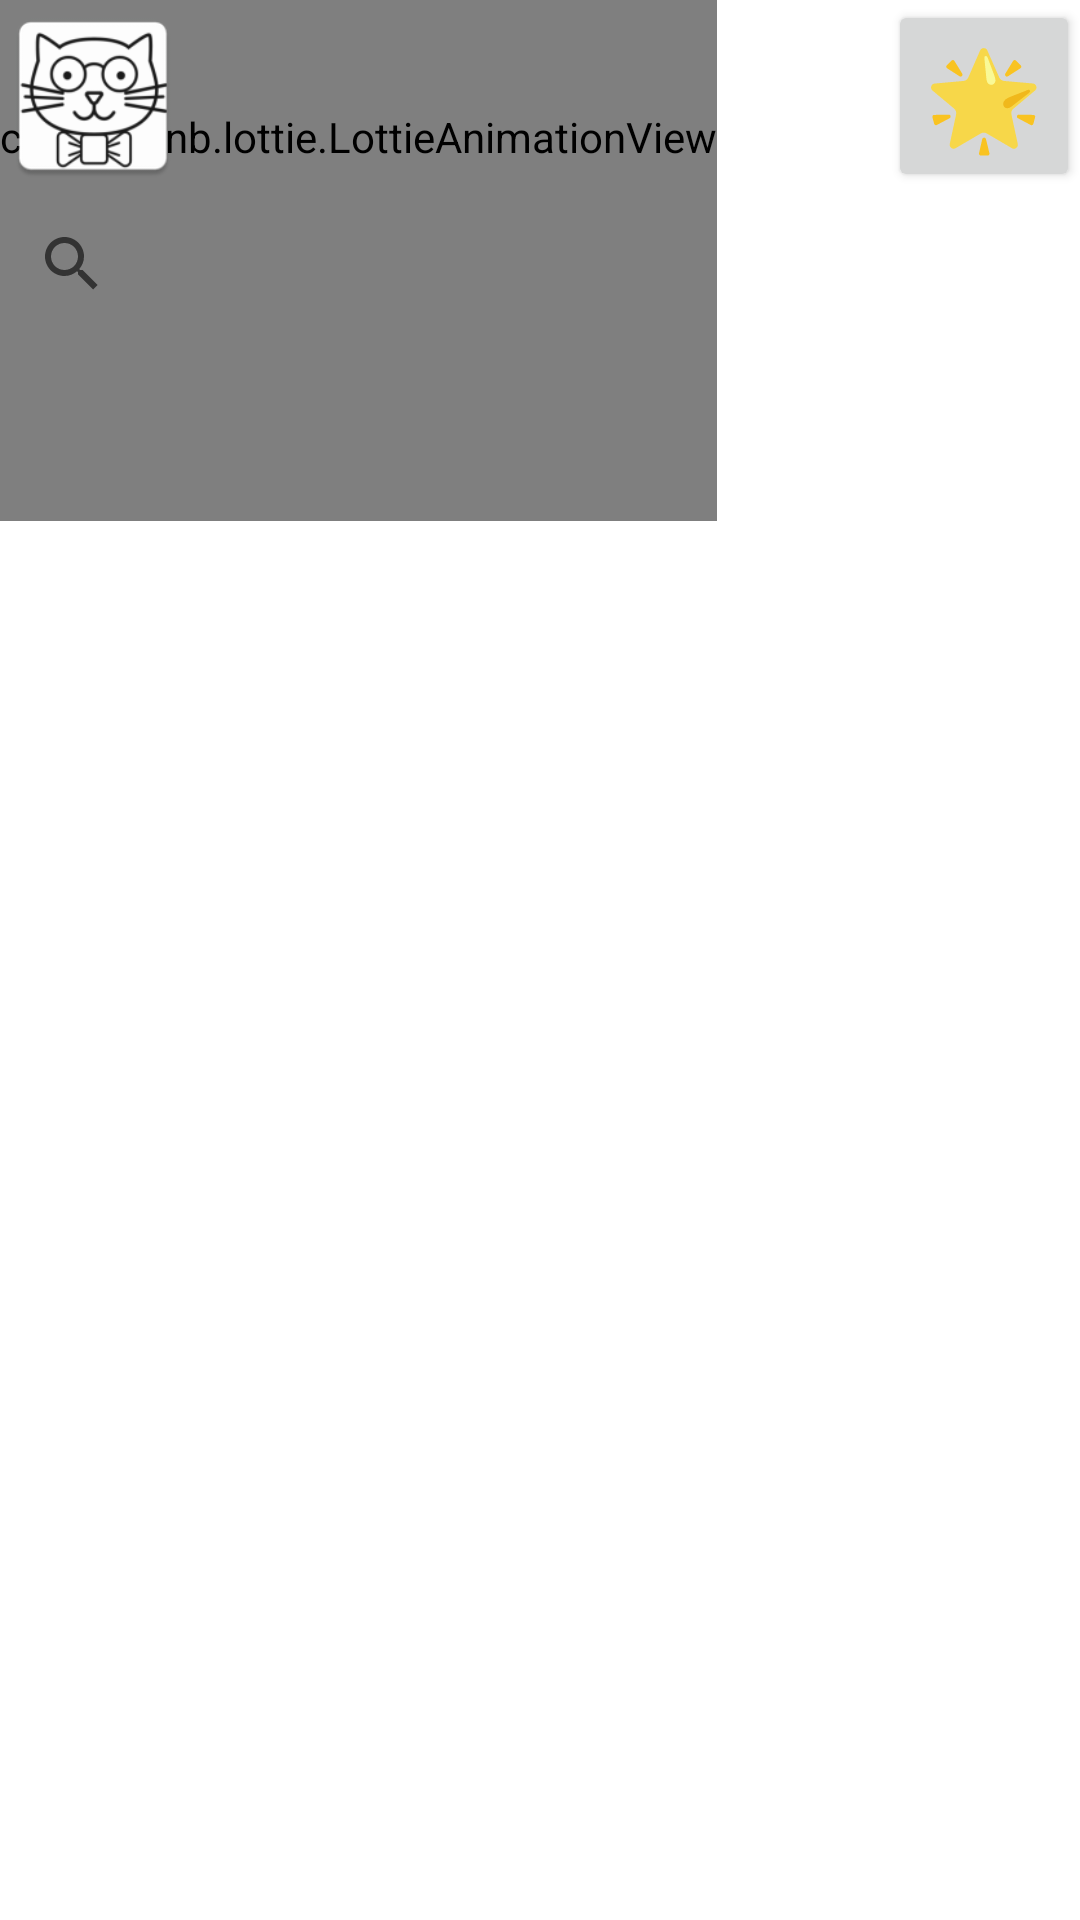

Screen size 1080*1920. Icon name, then its center in pixels as point (x, y):
app: point (94, 96)
